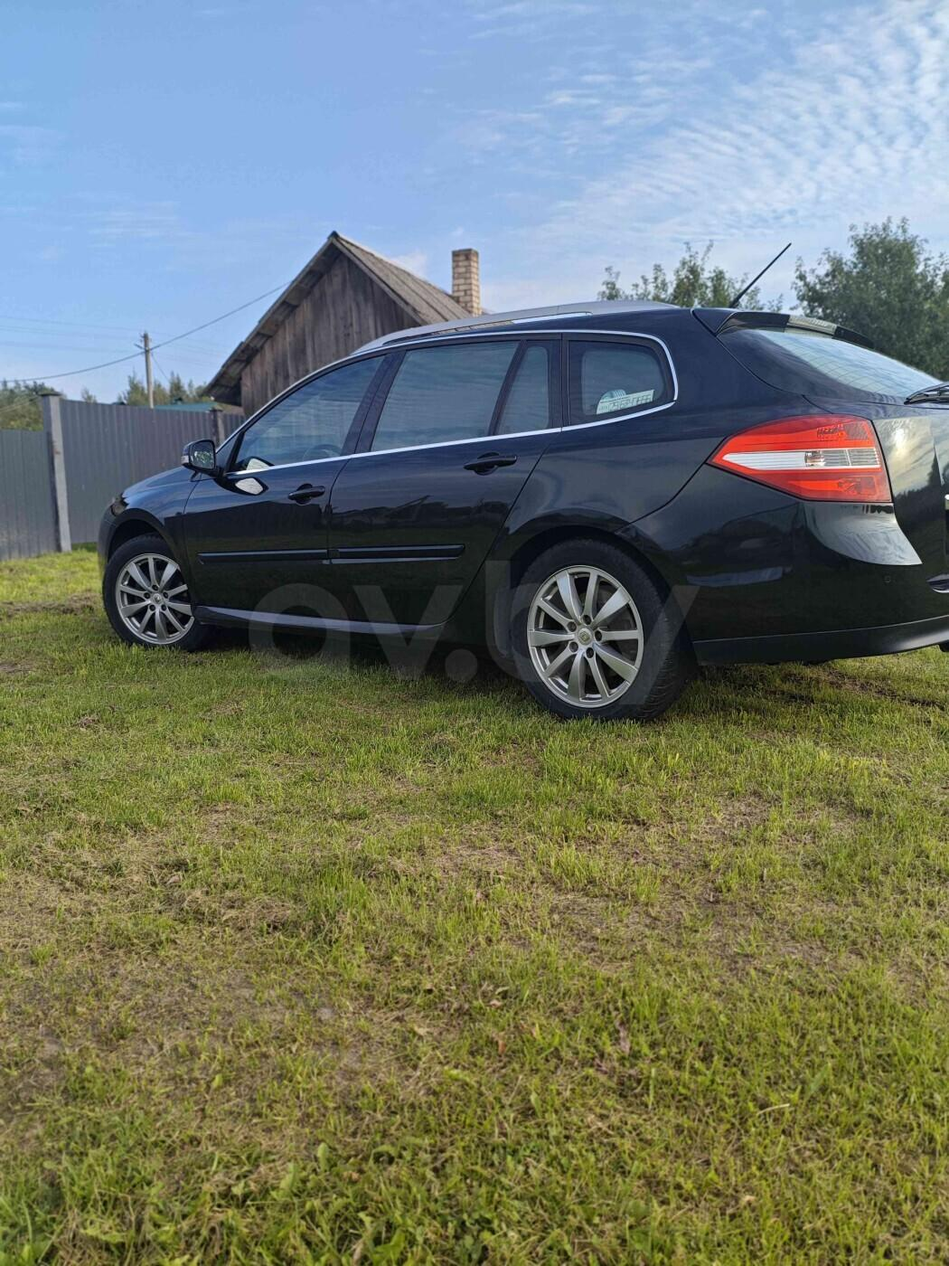Laguna_2010-2015: (90, 300, 949, 720)
